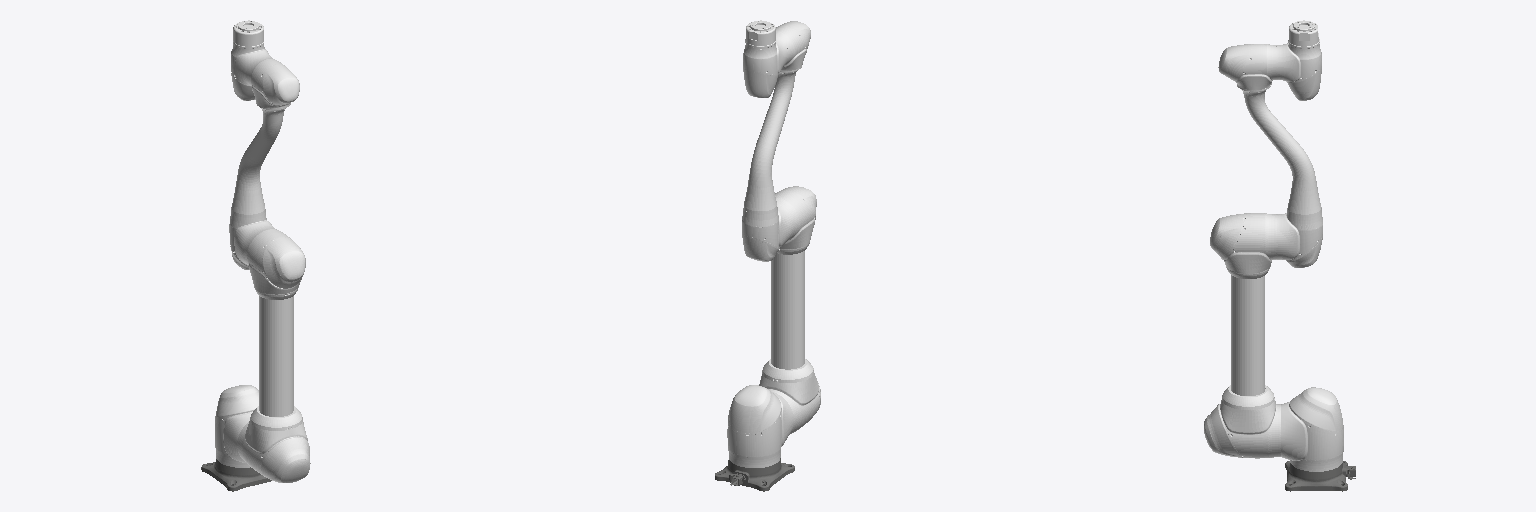
The robot description file, URDF, robot "m1013":
<?xml version="1.0" ?>
<robot name="m1013">
  <link name = "world"/>

  <material name="black">
    <color rgba="0.0 0.0 0.0 1.0"/>
  </material>
  <material name="white">
    <color rgba="1.0 1.0 1.0 1.0"/>
  </material>
  <material name="orange">
    <color rgba="1.0 0.4 0.0 1.0"/>
  </material>

  <material name="dr_gray">
    <color rgba="0.490 0.490 0.486 1.0"/>
  </material>
  <material name="dr_white">
    <color rgba="0.941 0.941 0.941 1.0"/>
  </material>
  
  <joint name="fixed" type="fixed">
    <origin rpy="0 0 0" xyz="0 0 0.0"/>
    <parent link="world"/>
    <child link="base_0"/>
  </joint>
  
  <link name="base_0">
	<inertial>
	  <mass value="3.722"/>
	  <origin xyz="-1.2e-05 -6e-05 0.050723"/>
      <inertia ixx="0.011" ixy="-7.19e-06" ixz="-1.94e-06" iyy="0.011" iyz="4.9e-06" izz="0.014"/>
    </inertial>
    <visual>
      <origin xyz="0 0 0" rpy="0 0 0"/>
      <geometry>
        <mesh filename="base_link.stl" scale="0.001 0.001 0.001"/>
      </geometry>
      <material name="dr_gray"/>
    </visual>
    <collision>
      <origin xyz="0 0 0" rpy="0 0 0"/>
      <geometry>
        <mesh filename="base_link.obj" scale="0.001 0.001 0.001"/>
      </geometry>
    </collision>
  </link>

  <joint name="joint1" type="revolute">
    <parent link="base_0"/>
    <child link="link1"/>
    <origin xyz="3e-06 -5e-06 0.0" rpy="0 0 0"/>
    <axis xyz="0 0 1"/>
    <limit effort="30" lower="-2.617" upper="2.617" velocity="1.571"/>
  </joint>

  <link name="link1">
	<inertial>
	  <mass value="7.446"/>
	  <origin xyz="7e-05 0.044281 0.143327"/>
      <inertia ixx="0.039" ixy="2.1e-05" ixz="-3.61e-05" iyy="0.023" iyz="-0.003" izz="0.039"/>
    </inertial>
    <visual>
      <origin xyz="-3e-06 5e-06 -0.0" rpy="0 0 0"/>
      <geometry>
        <mesh filename="1st_link_1_1.stl" scale="0.001 0.001 0.001"/>
      </geometry>
      <material name="dr_white"/>
    </visual>
  </link>
  
  <joint name="joint2" type="revolute">
    <parent link="link1"/>
    <child link="link2"/>
    <origin xyz="0.0 -0.1018 0.0957" rpy="0 0 0"/>
    <axis xyz="0 -1 0"/>
    <limit effort="30" lower="-2.617" upper="2.617" velocity="1.571"/>
  </joint>

  <link name="link2">
	<inertial>
	  <mass value="10.569"/>
	  <origin xyz="-1.6e-05 0.189372 0.418558"/>
      <inertia ixx="0.820" ixy="1.19e-05" ixz="-0.000263" iyy="0.82" iyz="-0.008" izz="0.031"/>
    </inertial>
    <visual>
      <origin xyz="-3e-06 0.101805 -0.0957" rpy="0 0 0"/>
      <geometry>
        <mesh filename="2nd_link_1_1.stl" scale="0.001 0.001 0.001"/>
      </geometry>
      <material name="dr_white"/>
    </visual>
  </link>

  <joint name="joint3" type="revolute">
    <parent link="link2"/>
    <child link="link3"/>
    <origin xyz="0.0 -0.013701 0.62" rpy="0 0 0"/>
    <axis xyz="0 1 0"/>
    <limit effort="30" lower="-2.617" upper="2.617" velocity="1.571"/>
  </joint>
  
  <link name="link3">
	<inertial>
	  <mass value="3.614"/>
	  <origin xyz="6e-06 0.07917 0.781807"/>
      <inertia ixx="0.012" ixy="-4.38e-06" ixz="-1.2e-06" iyy="0.008" iyz="0.002" izz="0.011"/>
    </inertial>
    <visual>
      <origin xyz="-3e-06 0.115506 -0.7157" rpy="0 0 0"/>
      <geometry>
        <mesh filename="3rd_link_1_1.stl" scale="0.001 0.001 0.001"/>
      </geometry>
      <material name="dr_white"/>
    </visual>
  </link>

  <joint name="joint4" type="revolute">
    <parent link="link3"/>
    <child link="link4"/>
    <origin xyz="1.5e-05 -0.065303 0.493003" rpy="0 0 0"/>
    <axis xyz="0 0 1"/>
    <limit effort="30" lower="-2.617" upper="2.617" velocity="1.571"/>
  </joint>
  
  <link name="link4">
	<inertial>
	  <mass value="3.785"/>
	  <origin xyz="-2.1e-05 0.12337 1.148"/>
      <inertia ixx="0.177" ixy="-2.34e-06" ixz="-4.92e-06" iyy="0.161" iyz="-0.05" izz="0.022"/>
    </inertial>
    <visual>
      <origin xyz="-1.8e-05 0.180809 -1.208703" rpy="0 0 0"/>
      <geometry>
        <mesh filename="4th_link_1_1.stl" scale="0.001 0.001 0.001"/>
      </geometry>
      <material name="dr_white"/>
    </visual>
  </link>

  <joint name="joint5" type="revolute">
    <parent link="link4"/>
    <child link="link5"/>
    <origin xyz="0.00011 0.065995 0.065094" rpy="0 0 0"/>
    <axis xyz="0 1 0"/>
    <limit effort="30" lower="-2.617" upper="2.617" velocity="1.571"/>
  </joint>
  
  <link name="link5">
	<inertial>
	  <mass value="2.598"/>
	  <origin xyz="-1.7e-05 0.06662 1.33103"/>
      <inertia ixx="0.007" ixy="-4.93e-06" ixz="-5.57e-06" iyy="0.004" iyz="-6.64e-05" izz="0.007"/>
    </inertial>
    <visual>
      <origin xyz="-0.000128 0.114814 -1.273797" rpy="0 0 0"/>
      <geometry>
        <mesh filename="5th_link_1_1.stl" scale="0.001 0.001 0.001"/>
      </geometry>
      <material name="dr_white"/>
    </visual>
  </link>

  <joint name="joint6" type="revolute">
    <parent link="link5"/>
    <child link="link6"/>
    <origin xyz="0.0 0.079006 0.060461" rpy="0 0 0"/>
    <axis xyz="0 0 1"/>
    <limit effort="30" lower="-2.617" upper="2.617" velocity="1.571"/>
  </joint>
  
  <link name="link6">
	<inertial>
	  <mass value="1.128"/>
	  <origin xyz="-0.000174 0.034708 1.40022"/>
      <inertia ixx="0.001" ixy="-2.79e-06" ixz="5.78e-06" iyy="0.001" iyz="-6.67e-06" izz="0.001"/>
    </inertial>
    <visual>
      <origin xyz="-0.000128 0.035808 -1.334258" rpy="0 0 0"/>
      <geometry>
        <mesh filename="6th_link_1_1.stl" scale="0.001 0.001 0.001"/>
      </geometry>
      <material name="dr_white"/>
    </visual>
  </link>
  
</robot>

--- Facts derived from the render (not from the file) ---
The picture shows the robot from 3 angles, left to right: view 1: azimuth 30°, elevation 25°; view 2: azimuth 150°, elevation 25°; view 3: azimuth 270°, elevation 25°; orthographic projection.
Robot: m1013 — 8 links, 7 joints (6 revolute, 1 fixed); root link world; default pose: all joints at 0.
Visible links, largest first — view 1: link2, link3, link1, link4, base_0, link5, link6; view 2: link2, link3, link1, link5, base_0, link4, link6; view 3: link2, link3, link1, link4, link5, base_0, link6.
Link boxes in pixels (x1=…): link2: x1=237, y1=226, x2=310, y2=482; link3: x1=229, y1=103, x2=290, y2=269; link1: x1=215, y1=385, x2=258, y2=467; link4: x1=247, y1=56, x2=299, y2=108; base_0: x1=201, y1=459, x2=271, y2=491; link5: x1=231, y1=45, x2=271, y2=100; link6: x1=233, y1=20, x2=263, y2=49; link2: x1=759, y1=186, x2=820, y2=433; link3: x1=742, y1=66, x2=801, y2=261; link1: x1=727, y1=385, x2=793, y2=467; link5: x1=743, y1=37, x2=788, y2=97; base_0: x1=715, y1=458, x2=794, y2=491; link4: x1=776, y1=21, x2=810, y2=70; link6: x1=745, y1=20, x2=775, y2=48; link2: x1=1204, y1=213, x2=1280, y2=458; link3: x1=1237, y1=84, x2=1322, y2=267; link1: x1=1281, y1=387, x2=1343, y2=471; link4: x1=1218, y1=44, x2=1276, y2=89; link5: x1=1277, y1=43, x2=1321, y2=100; base_0: x1=1285, y1=461, x2=1355, y2=491; link6: x1=1288, y1=20, x2=1319, y2=49.
Bounding box of the posed robot: 0.1824 × 0.4429 × 1.45 m (x, y, z).
7 mesh visuals loaded from 7 distinct referenced files (7 binary STL).
